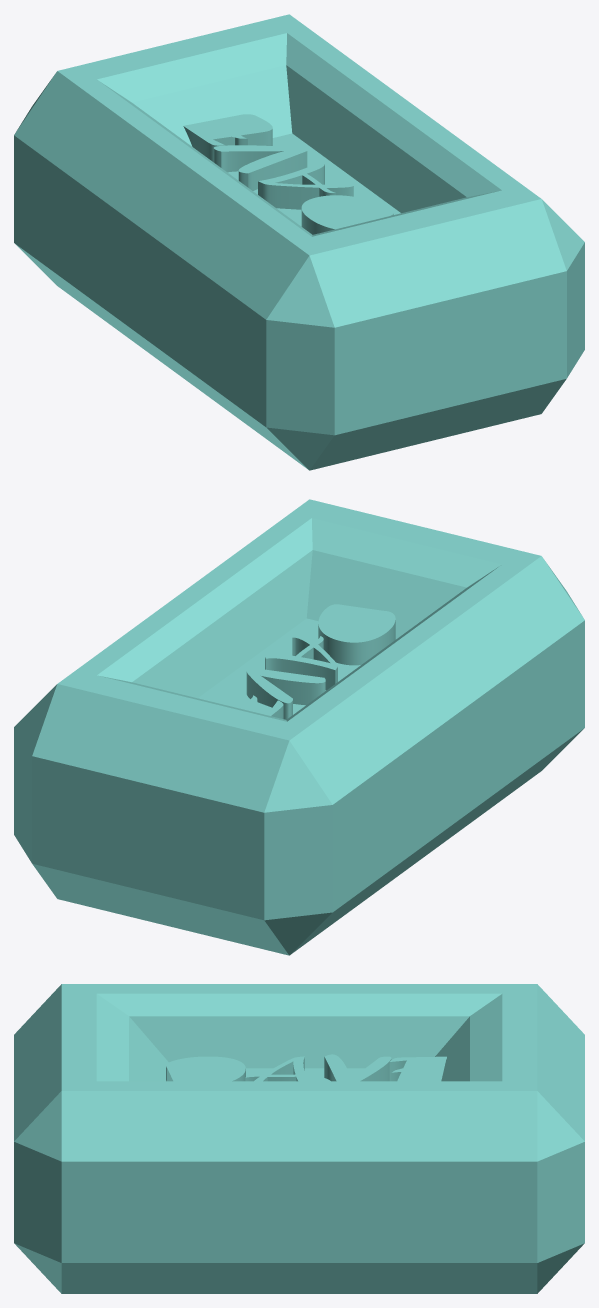
The model's file is SOAP 3.fbx.
3 renders of one model, top to bottom at view 1: azimuth 30°, elevation 25°; view 2: azimuth 150°, elevation 25°; view 3: azimuth 270°, elevation 25°, orthographic. The views are drawn at different scales.
Parts seen in each view (by area): view 1: typeMesh2; view 2: typeMesh2; view 3: typeMesh2.
Boxes of the visible parts, x1,y1,x2,y2 form: typeMesh2: [14, 14, 584, 470]; typeMesh2: [14, 499, 584, 955]; typeMesh2: [14, 984, 584, 1293].
Bounding box in the file's own units: 2.1 × 1.36 × 3.46.
Materials: 1 (1 with a texture image).
